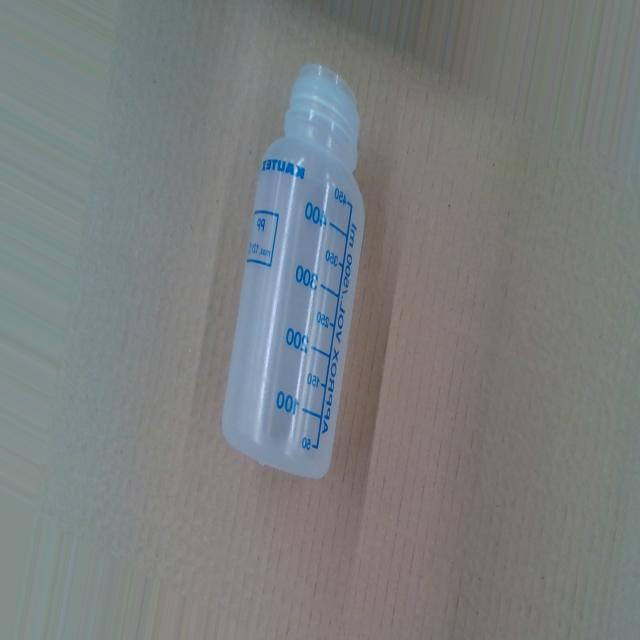bottle: (220, 59, 367, 480)
